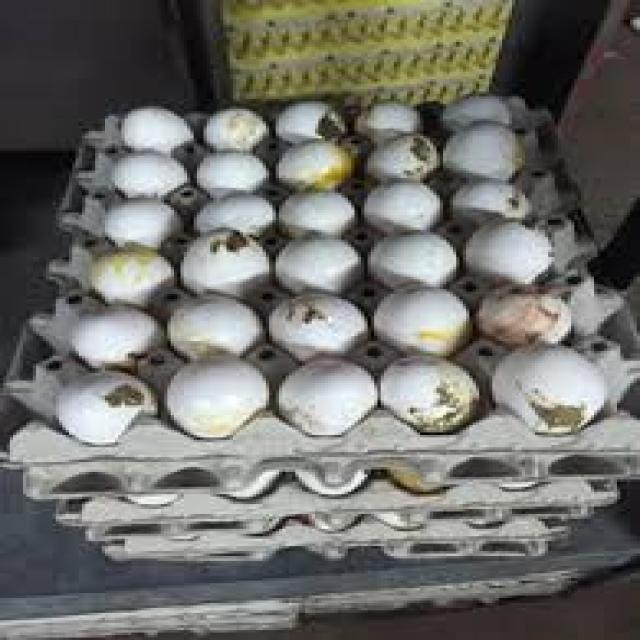Dirt Stained Egg: (488, 342, 608, 436), (381, 351, 483, 433), (54, 366, 156, 442), (175, 227, 272, 295), (270, 290, 364, 356), (270, 99, 353, 145), (199, 104, 271, 152)
